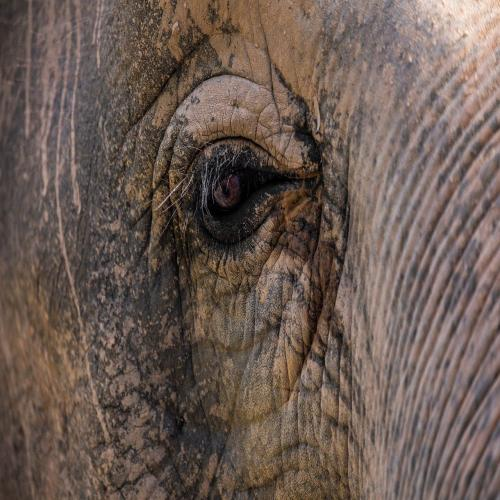asian_elephant-endangered: (11, 15, 484, 482)
